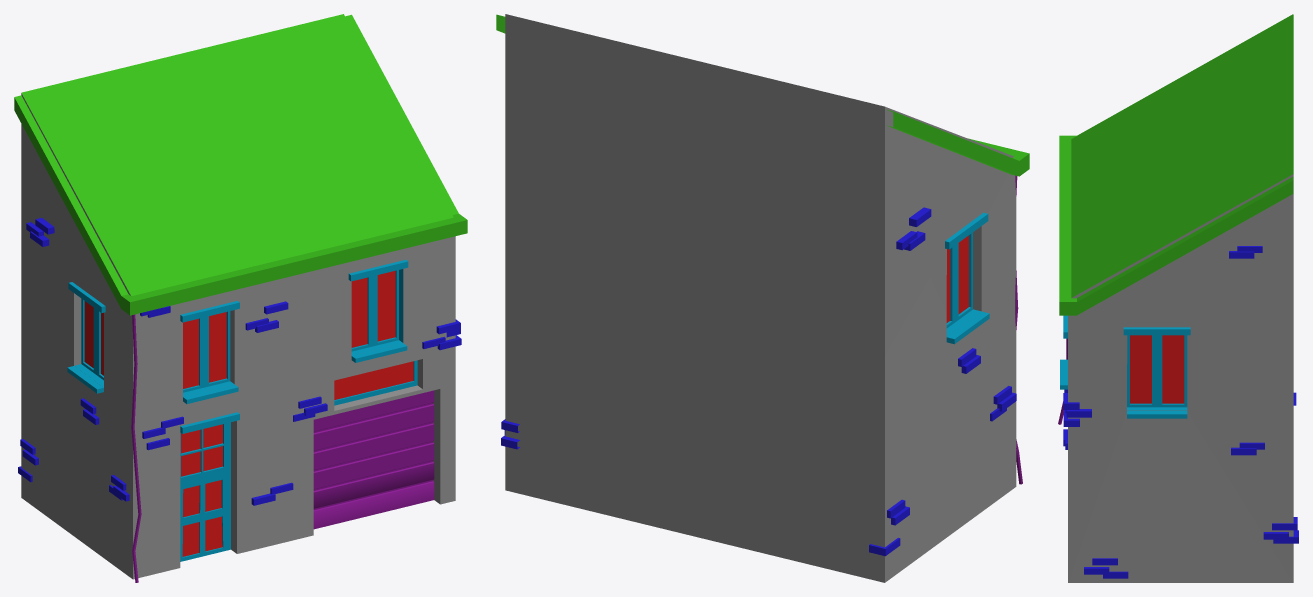
Rendered from Huis1_Export.FBX.
3 views of the same model, side by side, from view 1: azimuth 30°, elevation 25°; view 2: azimuth 150°, elevation 25°; view 3: azimuth 270°, elevation 25° (orthographic). The views are drawn at different scales.
Visible parts, largest first — view 1: Box054; view 2: Box054; view 3: Box054.
Part boxes in pixels (left/top/right/bottom): Box054: left=14, top=14, right=467, bottom=582; Box054: left=496, top=14, right=1029, bottom=582; Box054: left=1058, top=14, right=1298, bottom=582.
Bounding box in the file's own units: 307 × 352 × 188.
